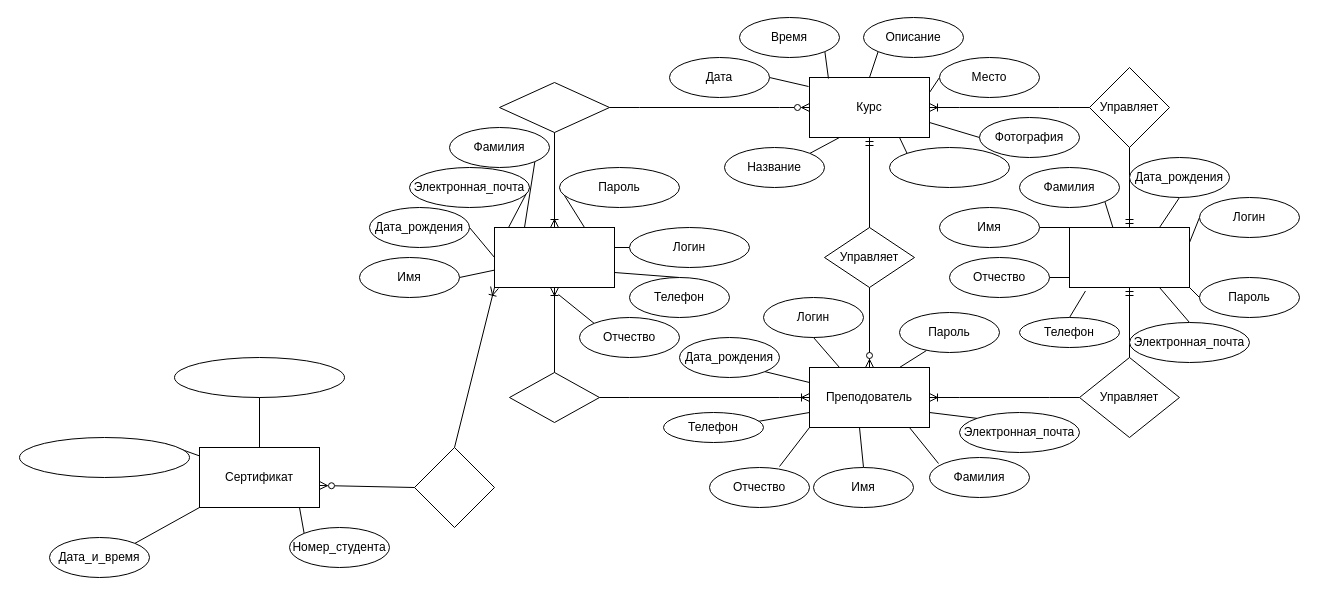
The diagram is 1317 pixels wide and 595 high, and some of its shapes have lost their labels. The centre of each missing label's shape, as x and y in pixels:
Администратор: pixel 1129 257
Данные_студента: pixel 259 377
Получает: pixel 454 487
Приобретает: pixel 554 107
Проверяет: pixel 554 397
Студент: pixel 554 257
Уникальный_код_Сертификата: pixel 104 457
Уникальный_номер: pixel 949 167
